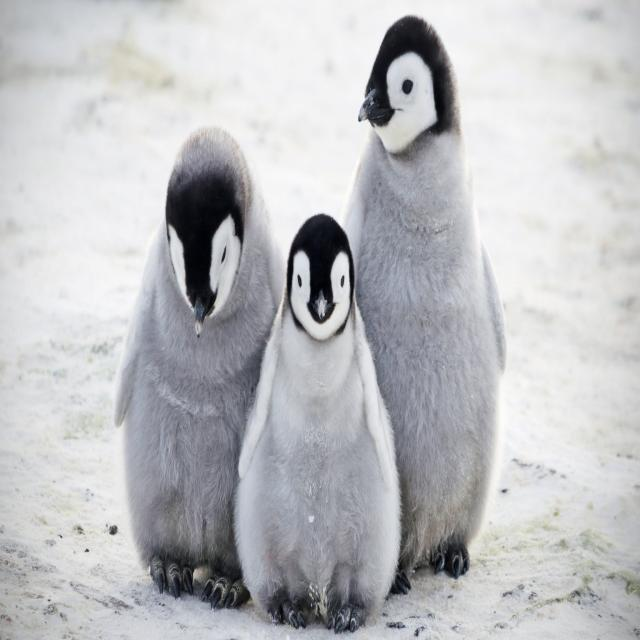penguin: (343, 16, 506, 592), (115, 128, 284, 608), (235, 214, 400, 632)
